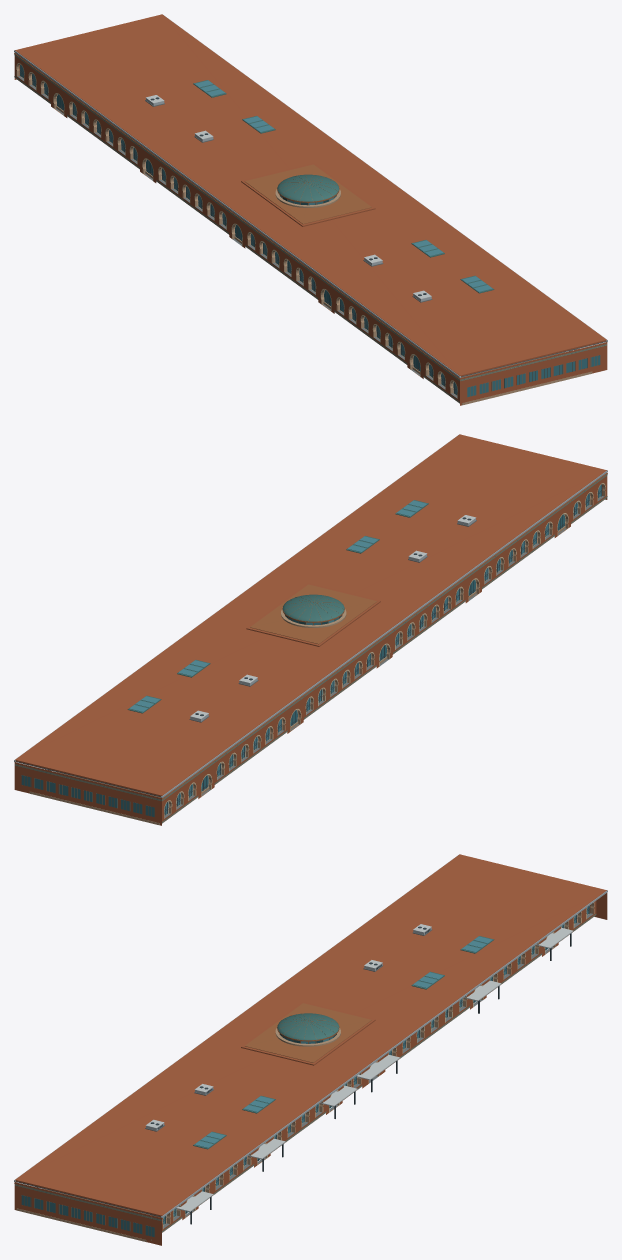
Rendered from FEZ_terminal_main.glb.
3 views of the same model, one above another, from view 1: azimuth 30°, elevation 25°; view 2: azimuth 150°, elevation 25°; view 3: azimuth 330°, elevation 25° (orthographic).
Visible parts, largest first — view 1: FEZ_terminal_main; view 2: FEZ_terminal_main; view 3: FEZ_terminal_main.
Part boxes in pixels (<box>): FEZ_terminal_main: <box>14,14,607,405</box>; FEZ_terminal_main: <box>14,434,607,825</box>; FEZ_terminal_main: <box>14,854,607,1245</box>.
Bounding box in the file's own units: 50 × 14 × 260.
Materials: 16 (16 with a texture image).
